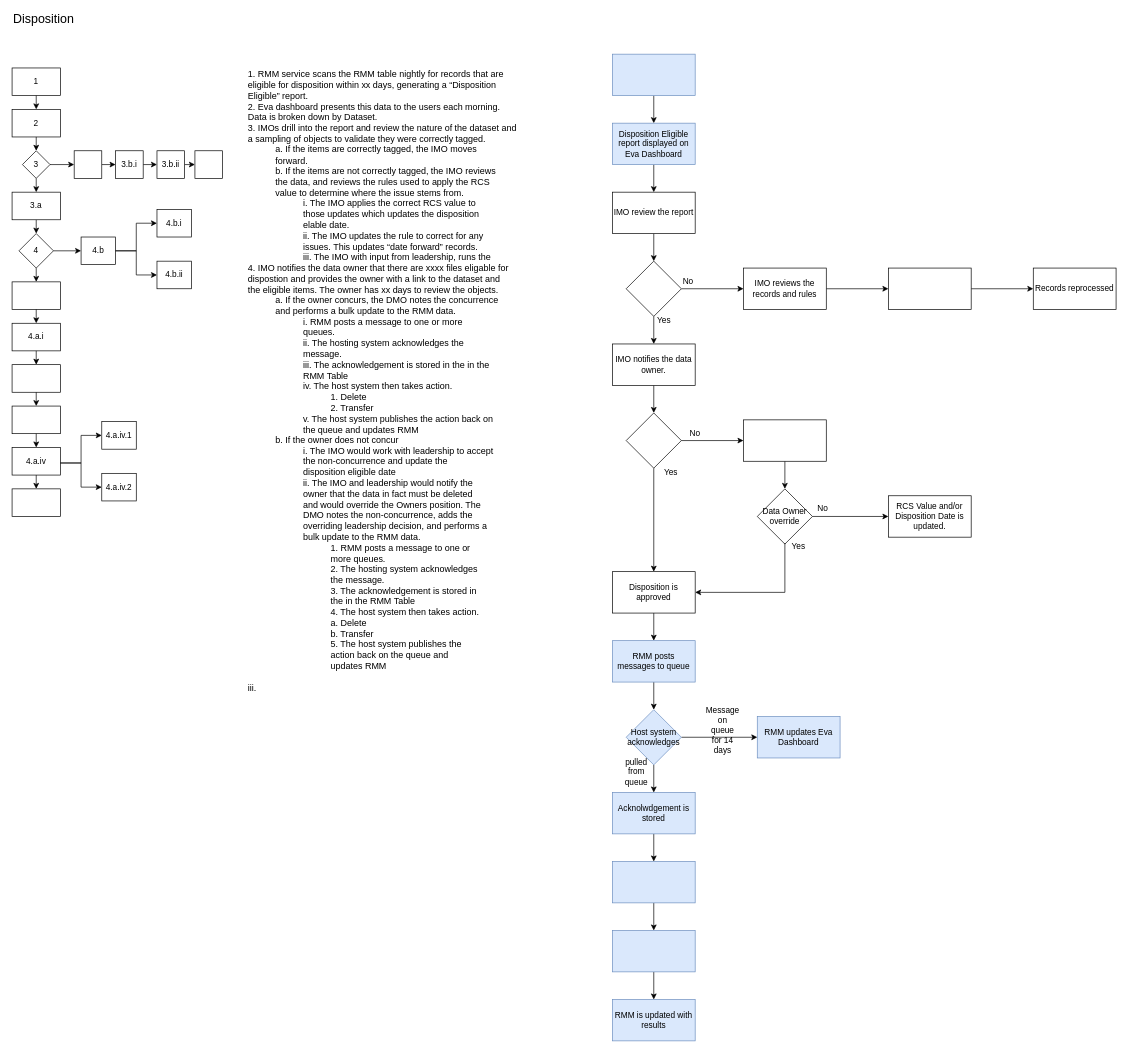
Some shapes in this 1128 by 1053 pixel diagram are drawn without their labels. The centre of each missing label's shape, as x and y in pixels:
3.b: the point at 87,164
3.b.iii: the point at 208,164
4.a: the point at 35,295
4.a.ii: the point at 35,378
4.a.iii: the point at 35,419
4.a.v: the point at 35,502
Data Owner Concurs: the point at 653,440
Host system publishes action to queue: the point at 653,951
Host system takes action (delete/transfer): the point at 653,882
IMO Concurs: the point at 653,288
IMO updates rules to correct issues.: the point at 929,288
IMO works with leadership: the point at 784,440
RMM scans RMM table, generates Disposition Eligible: the point at 653,74
